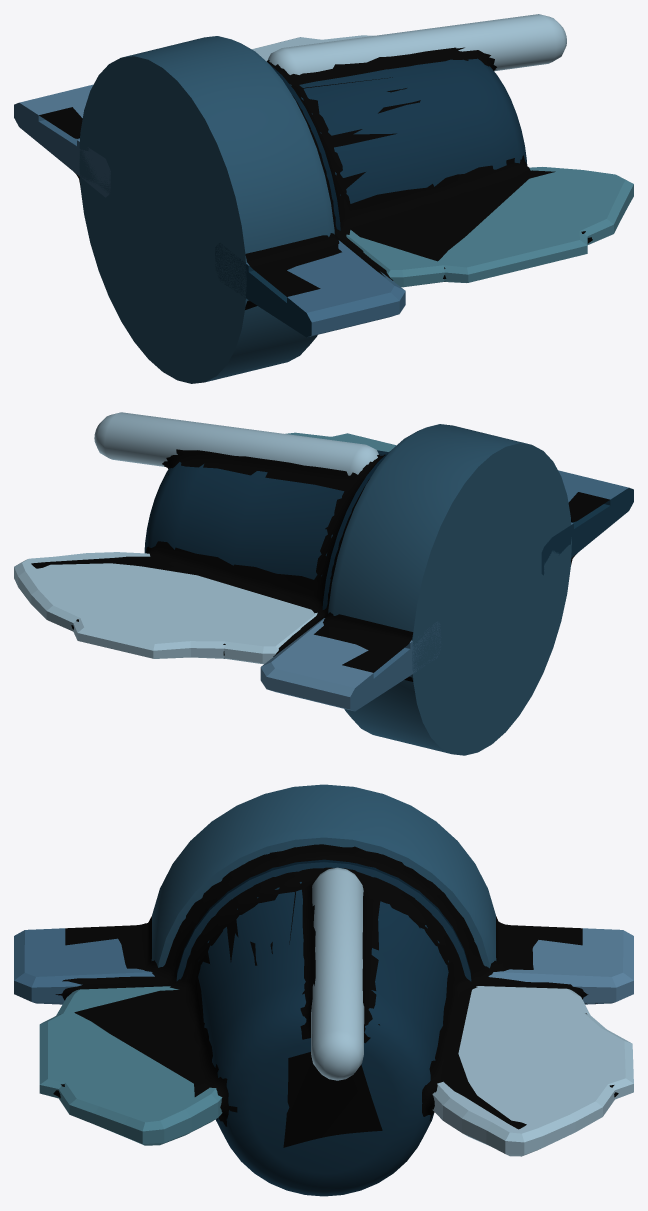
The model's file is newsh-caret-201.glb.
The picture shows the model from 3 angles, top to bottom: view 1: azimuth 30°, elevation 25°; view 2: azimuth 150°, elevation 25°; view 3: azimuth 270°, elevation 25°; orthographic projection. The views are drawn at different scales.
Parts seen in each view (by area): view 1: newsh-caret-201, newsh-caret-201_outline; view 2: newsh-caret-201, newsh-caret-201_outline; view 3: newsh-caret-201, newsh-caret-201_outline.
Part boxes in pixels (x1,y1,x2,y2): newsh-caret-201: [14, 14, 633, 383]; newsh-caret-201_outline: [39, 47, 592, 309]; newsh-caret-201: [14, 412, 633, 755]; newsh-caret-201_outline: [31, 449, 609, 681]; newsh-caret-201: [14, 784, 633, 1196]; newsh-caret-201_outline: [53, 844, 618, 1147].
Bounding box in the file's own units: 1.5 × 1.08 × 1.91.
